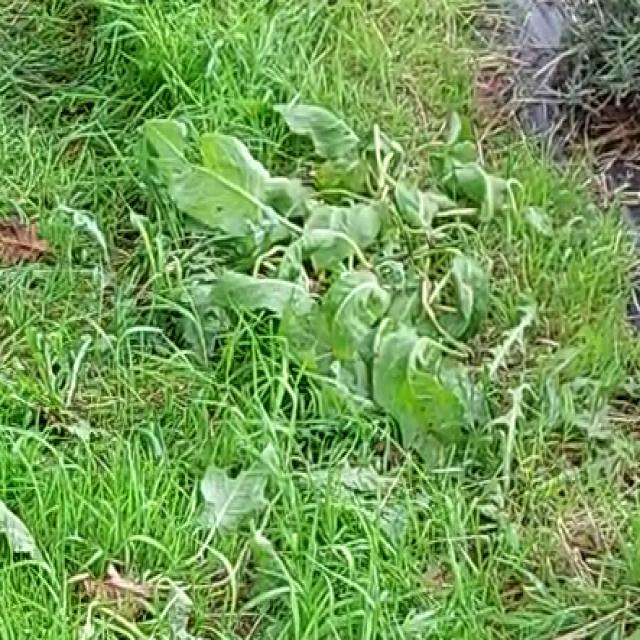organic waste: (176, 25, 517, 418)
